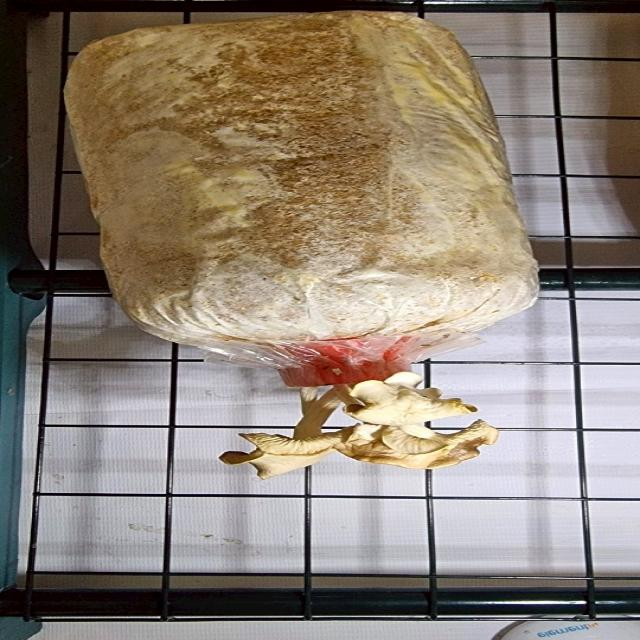abnormal: (223, 391, 339, 478), (344, 423, 522, 474), (332, 371, 491, 422)
